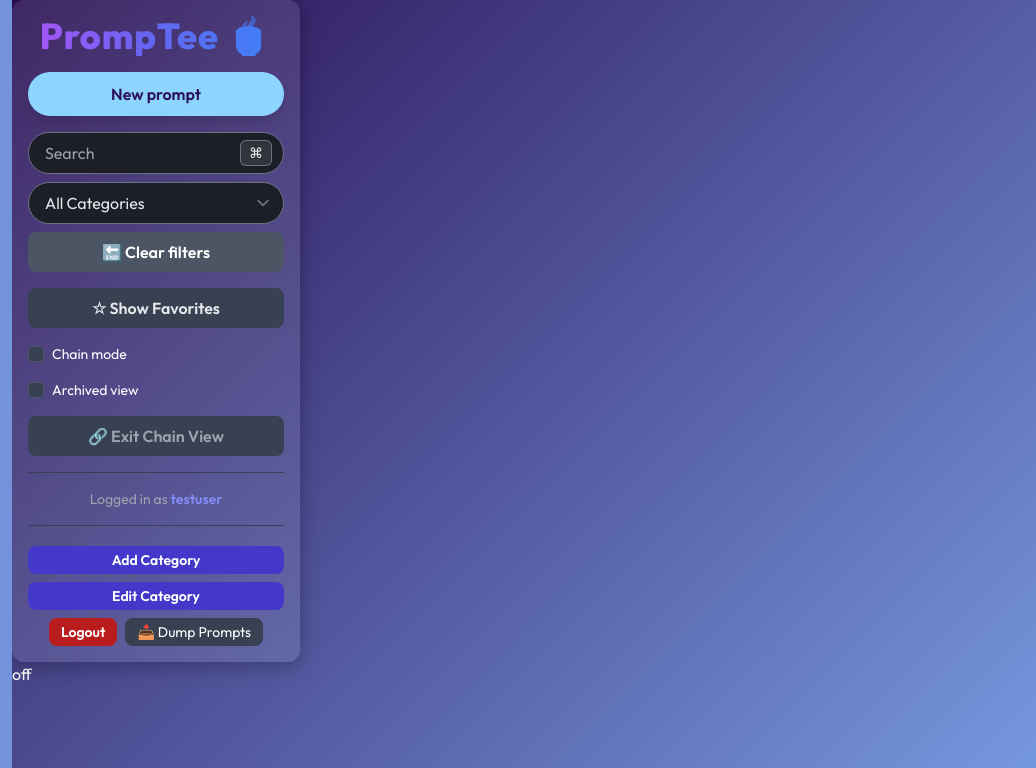
it: PromptSidebar › toggles archived mode
Check: the text "off" is shown, box [12,664,32,684]
Click the checkbox labelled "Archived view" at (36, 390), box [28,382,44,398]
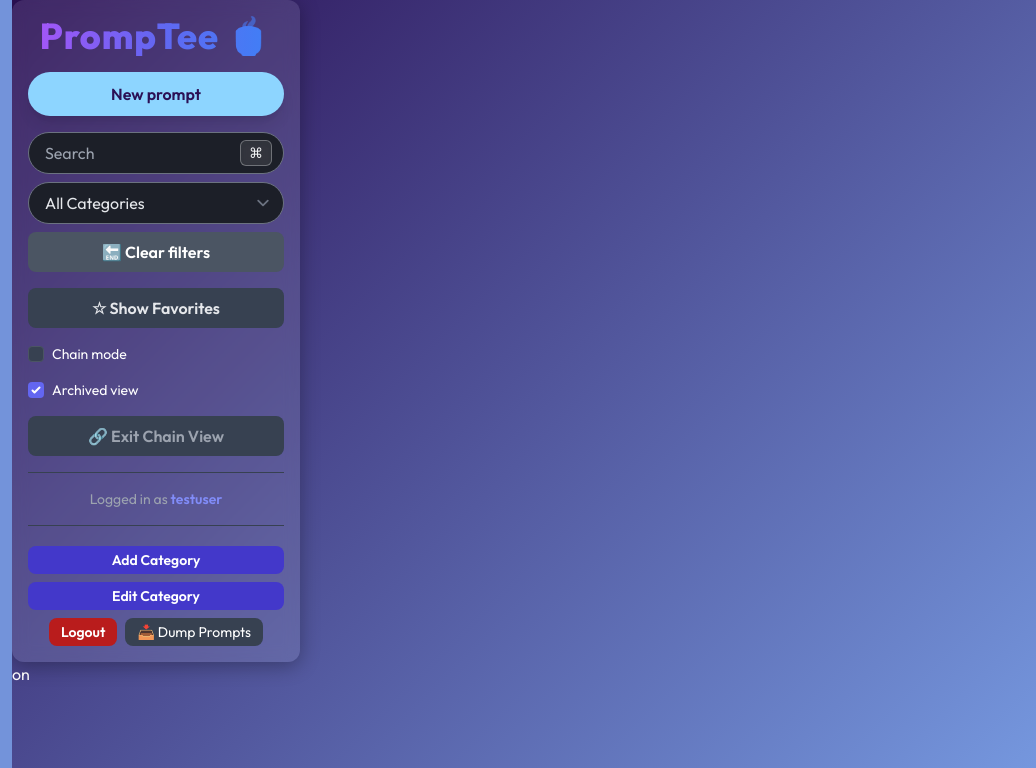
Check: the text "on" is shown, box [12,664,30,684]
